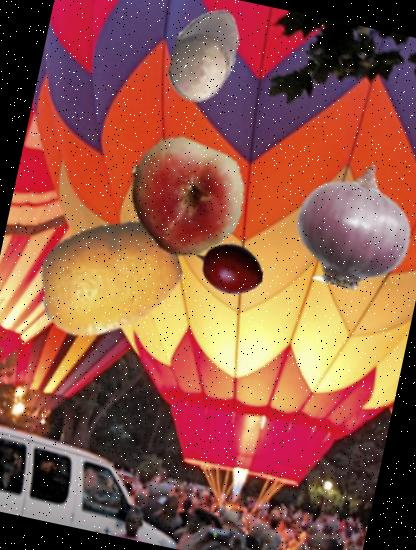Hazelnut: (145, 0, 264, 115)
Kumquats: (26, 194, 194, 362)
Onion: (280, 151, 416, 300)
Peach: (114, 130, 254, 270)
Tamarillo: (188, 228, 270, 310)
